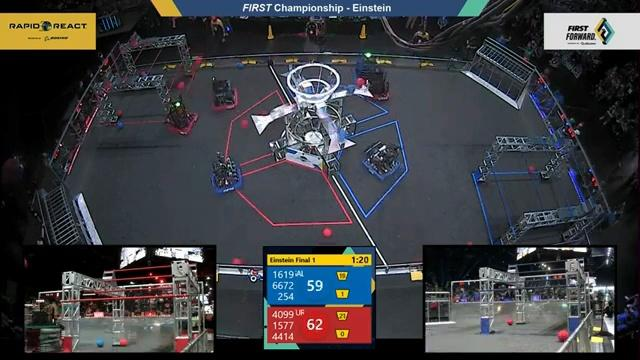robot: (362, 136, 405, 183), (206, 149, 246, 198), (162, 94, 202, 140), (208, 75, 243, 114), (351, 48, 385, 83), (362, 71, 396, 102)
